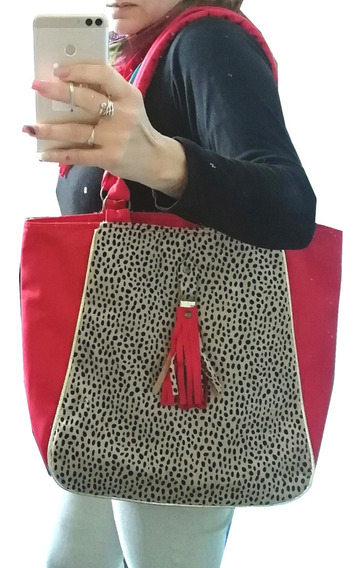cartera: (20, 6, 344, 505)
